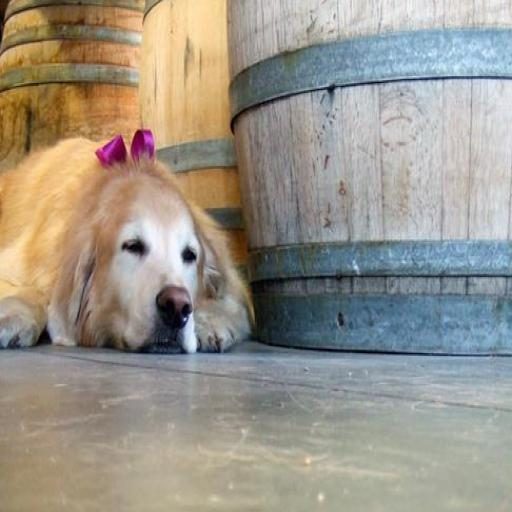dog_face: (81, 161, 218, 348)
